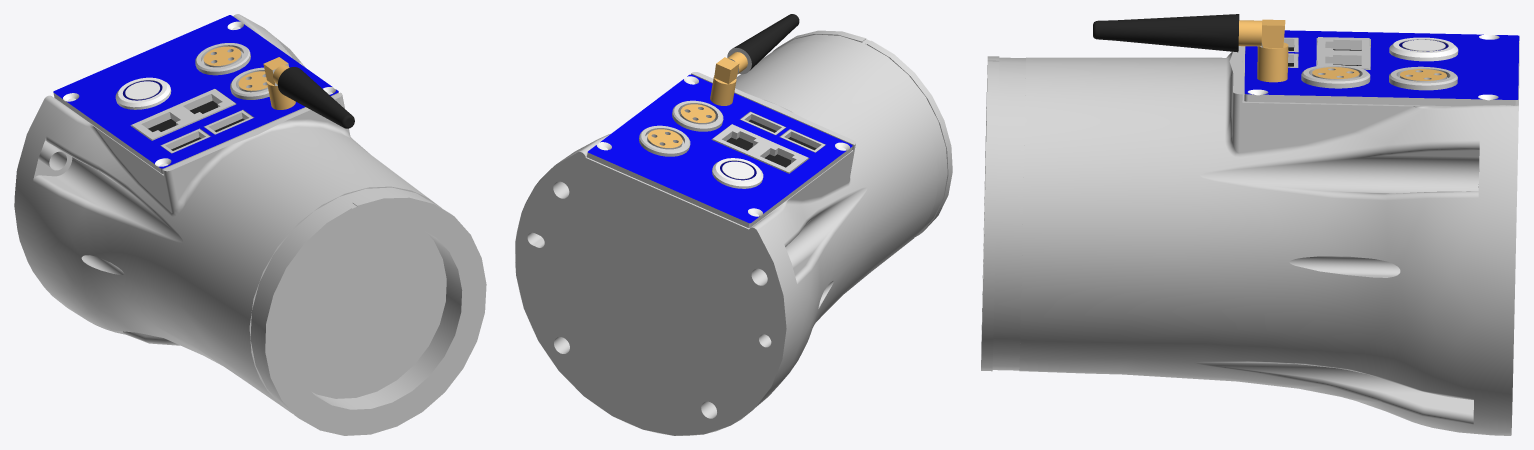
Rendered from converted_converted_rm75_link_0.glb.
3 renders of one model, left to right at view 1: azimuth 30°, elevation 25°; view 2: azimuth 150°, elevation 25°; view 3: azimuth 270°, elevation 25°, orthographic. The views are drawn at different scales.
Parts seen in each view (by area): view 1: ____1.STEP, ____1.STEP_44adc5, ____1.STEP_eb9afd, ____1.STEP_7e91c6, ____1.STEP_2ddd81, ____1.STEP_91ce50; view 2: ____1.STEP, ____1.STEP_44adc5, ____1.STEP_eb9afd, ____1.STEP_7e91c6, ____1.STEP_91ce50, ____1.STEP_2ddd81; view 3: ____1.STEP, ____1.STEP_44adc5, ____1.STEP_eb9afd, ____1.STEP_91ce50, ____1.STEP_7e91c6, ____1.STEP_2ddd81.
Part boxes in pixels (box(x1,y1,x2,y2)): ____1.STEP: box(14, 14, 486, 435); ____1.STEP_44adc5: box(53, 15, 338, 168); ____1.STEP_eb9afd: box(148, 67, 354, 150); ____1.STEP_7e91c6: box(63, 21, 335, 166); ____1.STEP_2ddd81: box(203, 46, 267, 90); ____1.STEP_91ce50: box(263, 57, 295, 109); ____1.STEP: box(515, 30, 952, 435); ____1.STEP_44adc5: box(588, 74, 852, 223); ____1.STEP_eb9afd: box(726, 14, 816, 167); ____1.STEP_7e91c6: box(596, 76, 849, 216); ____1.STEP_91ce50: box(710, 52, 747, 105); ____1.STEP_2ddd81: box(647, 104, 715, 147); ____1.STEP: box(981, 36, 1519, 435); ____1.STEP_44adc5: box(1244, 30, 1519, 99); ____1.STEP_eb9afd: box(1093, 14, 1361, 66); ____1.STEP_91ce50: box(1238, 19, 1288, 82); ____1.STEP_7e91c6: box(1248, 34, 1499, 100); ____1.STEP_2ddd81: box(1312, 67, 1446, 80).
Bounding box in the file's own units: 0.1099 × 0.1178 × 0.1404.
